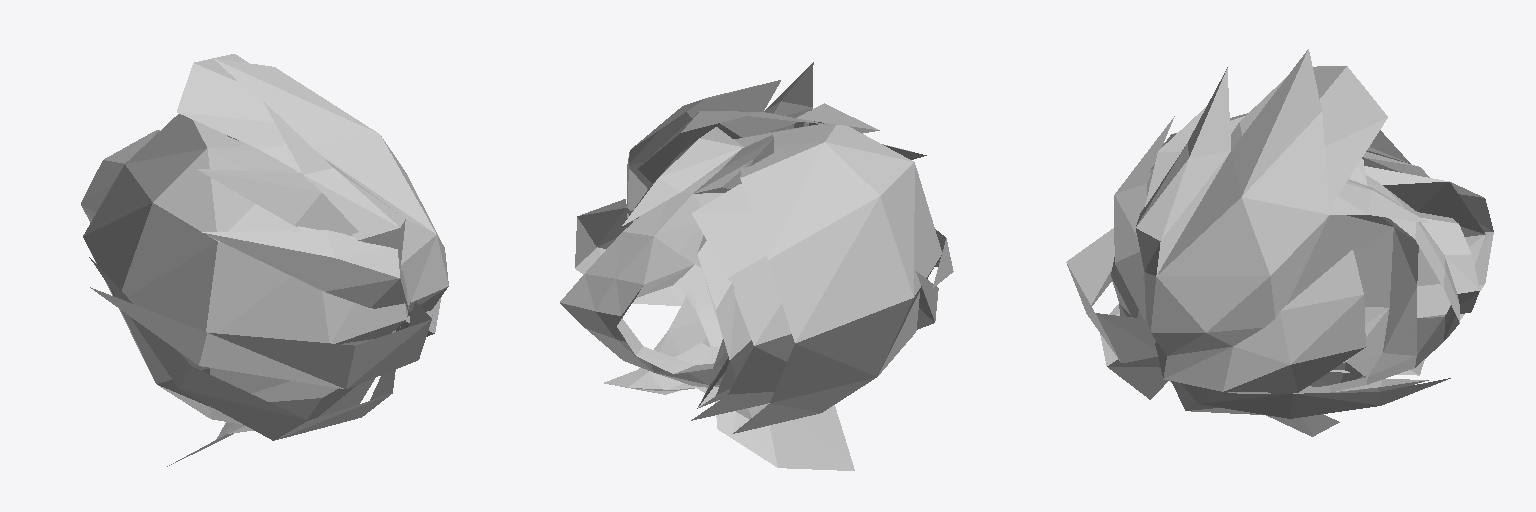
The picture shows the model from 3 angles: view 1: azimuth 30°, elevation 25°; view 2: azimuth 150°, elevation 25°; view 3: azimuth 270°, elevation 25°; orthographic projection.
Parts seen in each view (by area): view 1: ka_head_001; view 2: ka_head_001; view 3: ka_head_001.
Boxes of the visible parts, x1=… form: ka_head_001: x1=81, y1=54, x2=448, y2=466; ka_head_001: x1=560, y1=62, x2=953, y2=470; ka_head_001: x1=1066, y1=49, x2=1493, y2=436.
Bounding box in the file's own units: 44.78 × 50.03 × 50.04.